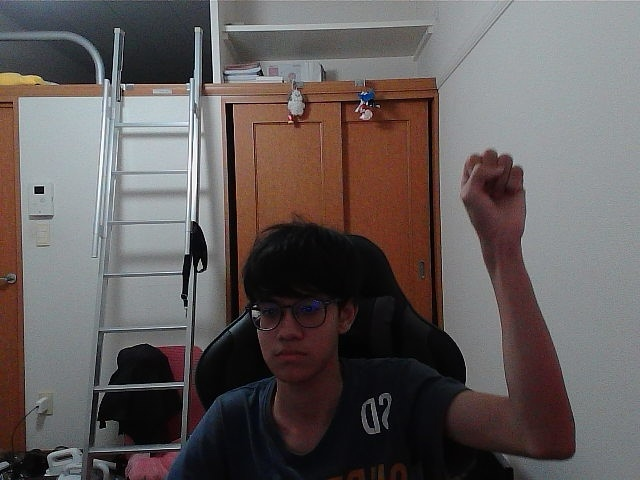closed_palm: (470, 153, 517, 236)
